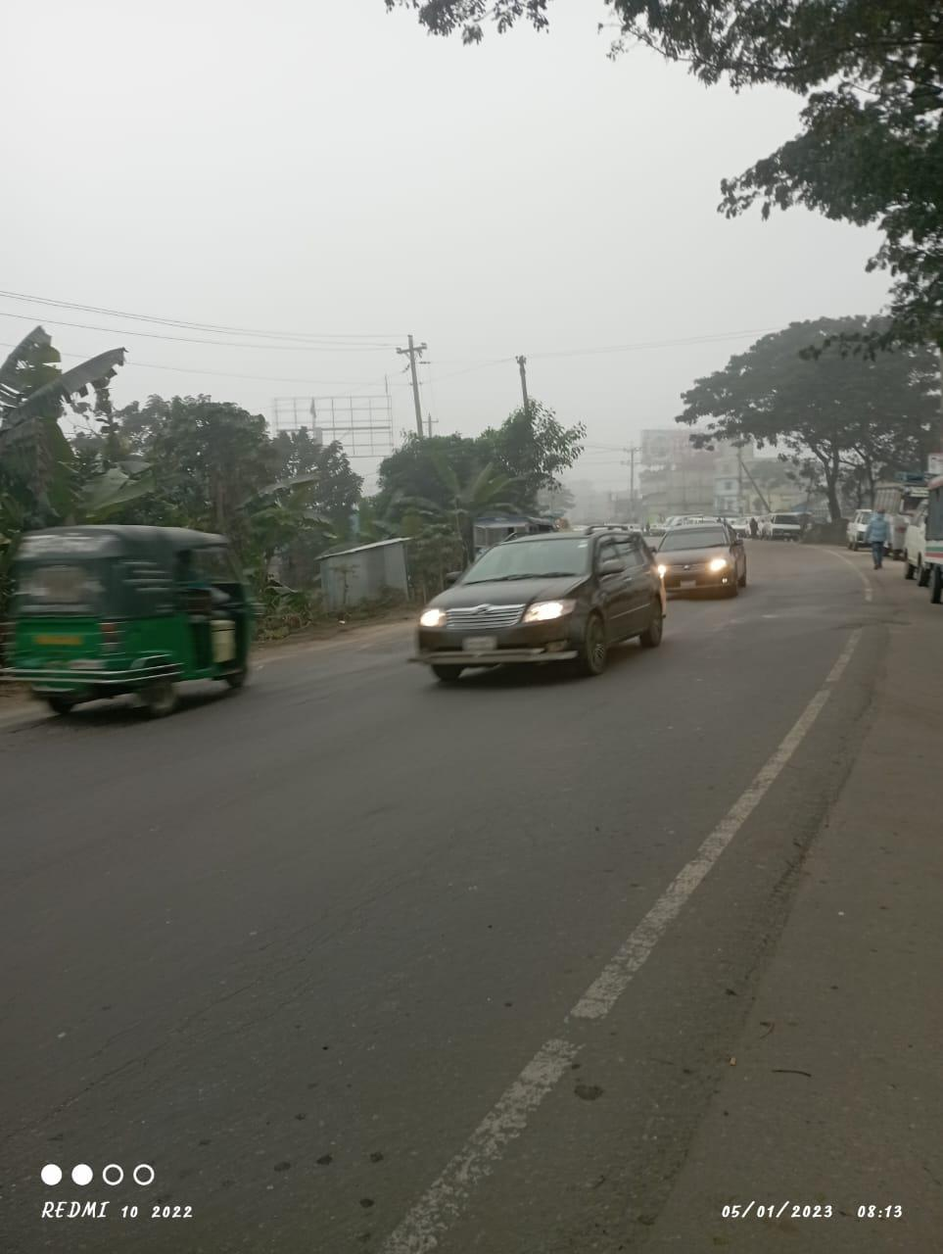Car: (411, 526, 675, 685), (650, 509, 757, 595), (761, 505, 813, 545)
